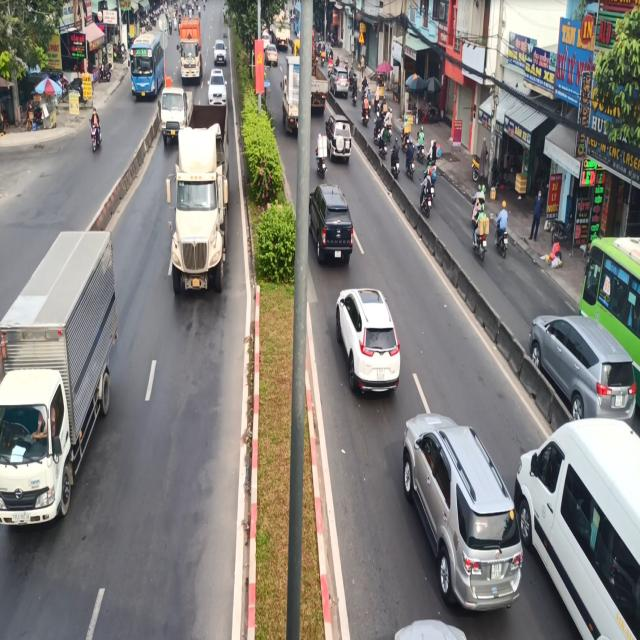car: (399, 388, 526, 616), (335, 284, 400, 404), (309, 180, 366, 280)
motor: (85, 104, 104, 161)
truck: (0, 222, 117, 538), (172, 98, 233, 298)
